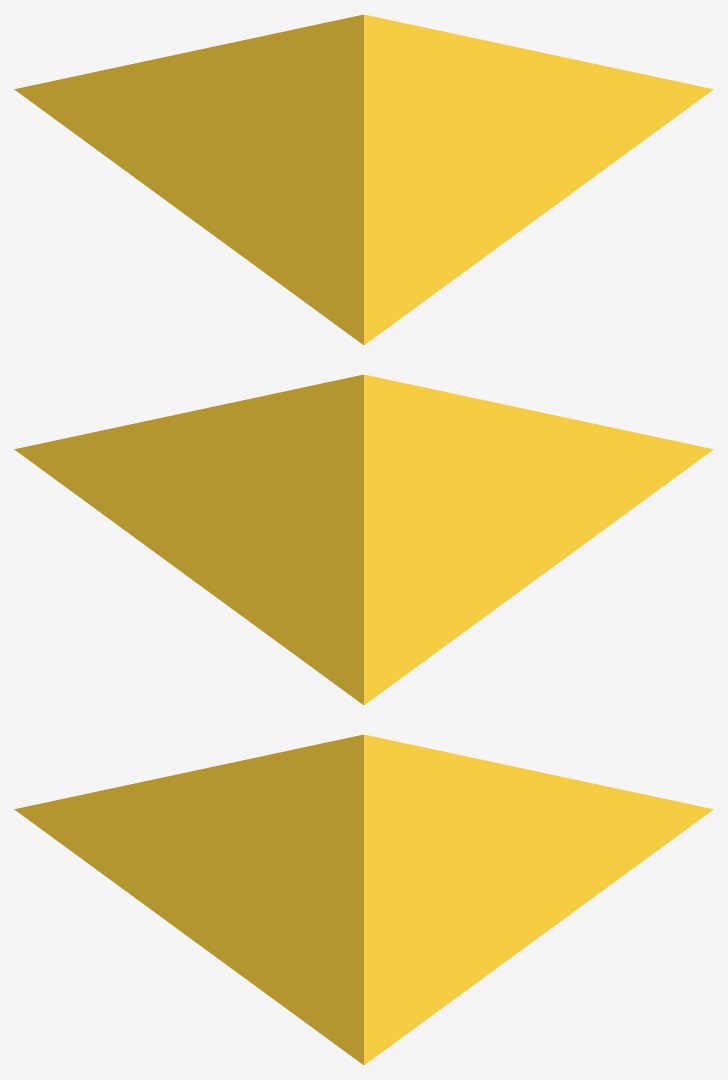
Rendered from node-video.glb.
3 views of the same model, one above another, from view 1: azimuth 30°, elevation 25°; view 2: azimuth 150°, elevation 25°; view 3: azimuth 270°, elevation 25° (orthographic).
Visible parts, largest first — view 1: Video; view 2: Video; view 3: Video.
Part boxes in pixels (x1,y1,x2,y2): Video: (14,14,713,344); Video: (14,374,713,704); Video: (14,734,713,1064).
Size of the model in its own units: 1.2 by 0.35 by 1.39.
